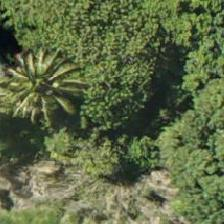coconut_tree: (0, 38, 78, 128)
